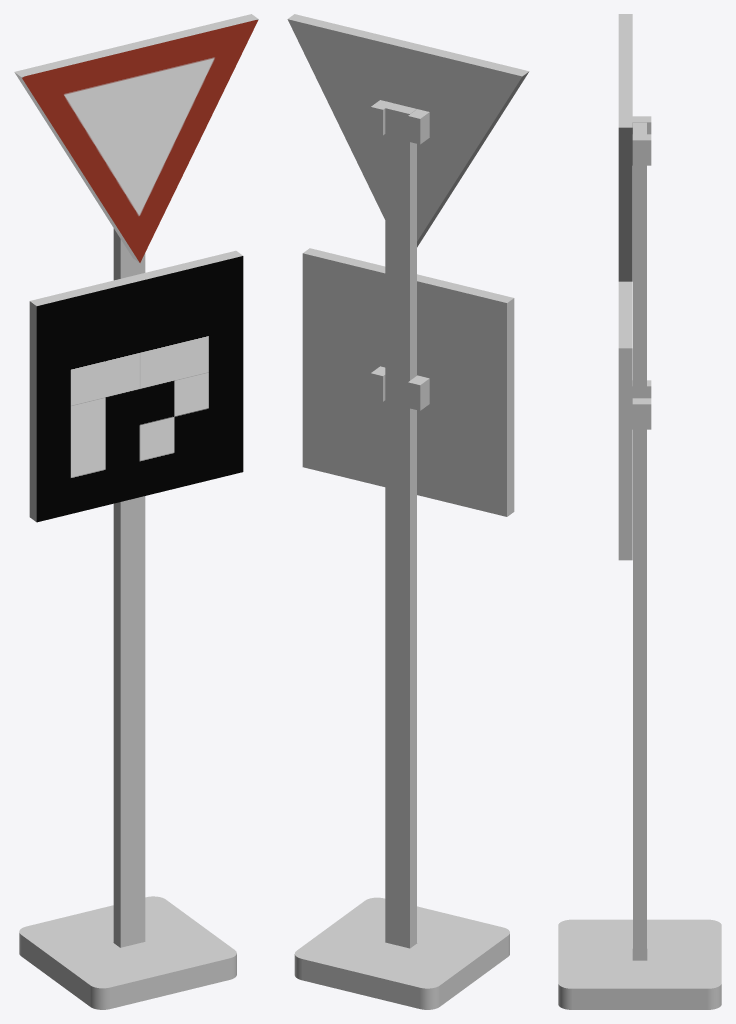
The model's file is ceda_aruco.dae.
3 renders of one model, left to right at view 1: azimuth 30°, elevation 25°; view 2: azimuth 150°, elevation 25°; view 3: azimuth 270°, elevation 25°, orthographic. The views are drawn at different scales.
Visible parts, largest first — view 1: a71b4fad-e7d4-4c34-a002-dad7cde751fe, a47ee493-1647-4641-a9cc-b9689482fbf9, a71044ef-ba99-4750-b383-c735d4691daa, a8c36832-9736-43f3-875d-d5a6166c5067, a01b02b8-8a6a-43f2-bde0-311099310f4e, abe8f8e1-00ee-4a80-8b9b-03dc116b73c2, a04e1161-7b72-4ba5-bc6c-8aa877179f40, a3817be3-164b-48b5-a58d-367b801f19ec; view 2: a6e88f4e-22ac-44c9-a955-507431604532, a71044ef-ba99-4750-b383-c735d4691daa, b0ea7cfd-c9d2-4ffd-9234-815f490dfb84, a8c36832-9736-43f3-875d-d5a6166c5067, a01b02b8-8a6a-43f2-bde0-311099310f4e, abe8f8e1-00ee-4a80-8b9b-03dc116b73c2, a04e1161-7b72-4ba5-bc6c-8aa877179f40, a3817be3-164b-48b5-a58d-367b801f19ec, af8020b3-a9f6-4de2-b574-d886edb3ff2f, a21a84aa-fea9-4e06-9a8e-22d500c02aba; view 3: a8c36832-9736-43f3-875d-d5a6166c5067, a71044ef-ba99-4750-b383-c735d4691daa, ad6652b6-1d95-4b99-b2b3-a2c3790365ed, a74c3f79-d18f-4c9a-82df-d136922ed2f7, a01b02b8-8a6a-43f2-bde0-311099310f4e, a04e1161-7b72-4ba5-bc6c-8aa877179f40, a0abbfdc-e9b1-4f82-a1ac-da1ada7a6245, ddc9159e-bf8b-4c69-badf-9b66c5fd702b.
Part boxes in pixels (left/top/right/bottom): a71b4fad-e7d4-4c34-a002-dad7cde751fe: left=36, top=256, right=243, bottom=522; a47ee493-1647-4641-a9cc-b9689482fbf9: left=22, top=20, right=258, bottom=262; a71044ef-ba99-4750-b383-c735d4691daa: left=113, top=228, right=145, bottom=947; a8c36832-9736-43f3-875d-d5a6166c5067: left=19, top=896, right=236, bottom=1009; a01b02b8-8a6a-43f2-bde0-311099310f4e: left=14, top=14, right=258, bottom=76; abe8f8e1-00ee-4a80-8b9b-03dc116b73c2: left=29, top=301, right=36, bottom=521; a04e1161-7b72-4ba5-bc6c-8aa877179f40: left=30, top=250, right=242, bottom=305; a3817be3-164b-48b5-a58d-367b801f19ec: left=14, top=72, right=139, bottom=262; a6e88f4e-22ac-44c9-a955-507431604532: left=302, top=253, right=506, bottom=516; a71044ef-ba99-4750-b383-c735d4691daa: left=385, top=103, right=416, bottom=948; b0ea7cfd-c9d2-4ffd-9234-815f490dfb84: left=287, top=19, right=522, bottom=241; a8c36832-9736-43f3-875d-d5a6166c5067: left=294, top=897, right=509, bottom=1009; a01b02b8-8a6a-43f2-bde0-311099310f4e: left=287, top=14, right=528, bottom=76; abe8f8e1-00ee-4a80-8b9b-03dc116b73c2: left=507, top=298, right=514, bottom=516; a04e1161-7b72-4ba5-bc6c-8aa877179f40: left=303, top=248, right=513, bottom=302; a3817be3-164b-48b5-a58d-367b801f19ec: left=417, top=72, right=528, bottom=247; af8020b3-a9f6-4de2-b574-d886edb3ff2f: left=408, top=109, right=429, bottom=144; a21a84aa-fea9-4e06-9a8e-22d500c02aba: left=408, top=375, right=429, bottom=410; a8c36832-9736-43f3-875d-d5a6166c5067: left=558, top=919, right=721, bottom=1009; a71044ef-ba99-4750-b383-c735d4691daa: left=633, top=122, right=646, bottom=960; ad6652b6-1d95-4b99-b2b3-a2c3790365ed: left=618, top=348, right=632, bottom=560; a74c3f79-d18f-4c9a-82df-d136922ed2f7: left=618, top=127, right=632, bottom=281; a01b02b8-8a6a-43f2-bde0-311099310f4e: left=618, top=14, right=632, bottom=127; a04e1161-7b72-4ba5-bc6c-8aa877179f40: left=618, top=281, right=632, bottom=348; a0abbfdc-e9b1-4f82-a1ac-da1ada7a6245: left=632, top=398, right=651, bottom=429; ddc9159e-bf8b-4c69-badf-9b66c5fd702b: left=632, top=134, right=651, bottom=165.
Bounding box in the file's own units: 0.0575 × 0.035 × 0.2136.
Materials: 2 (2 with a texture image).
